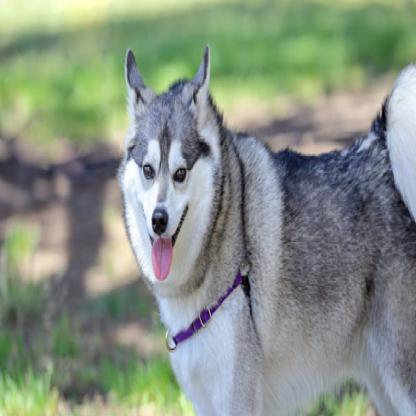dog: (122, 49, 416, 416)
